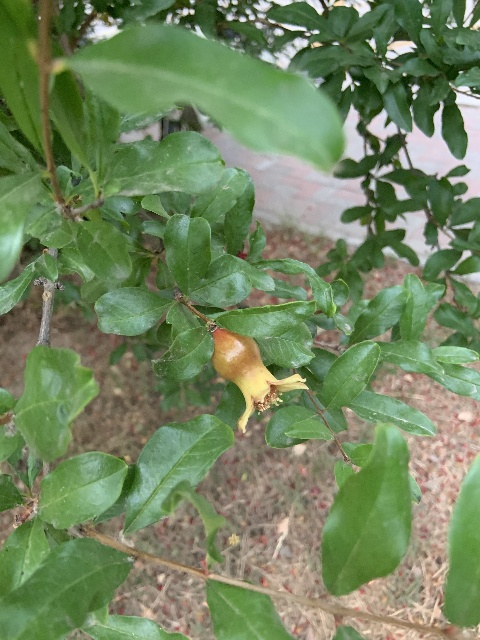early-fruit: (210, 328, 309, 432)
